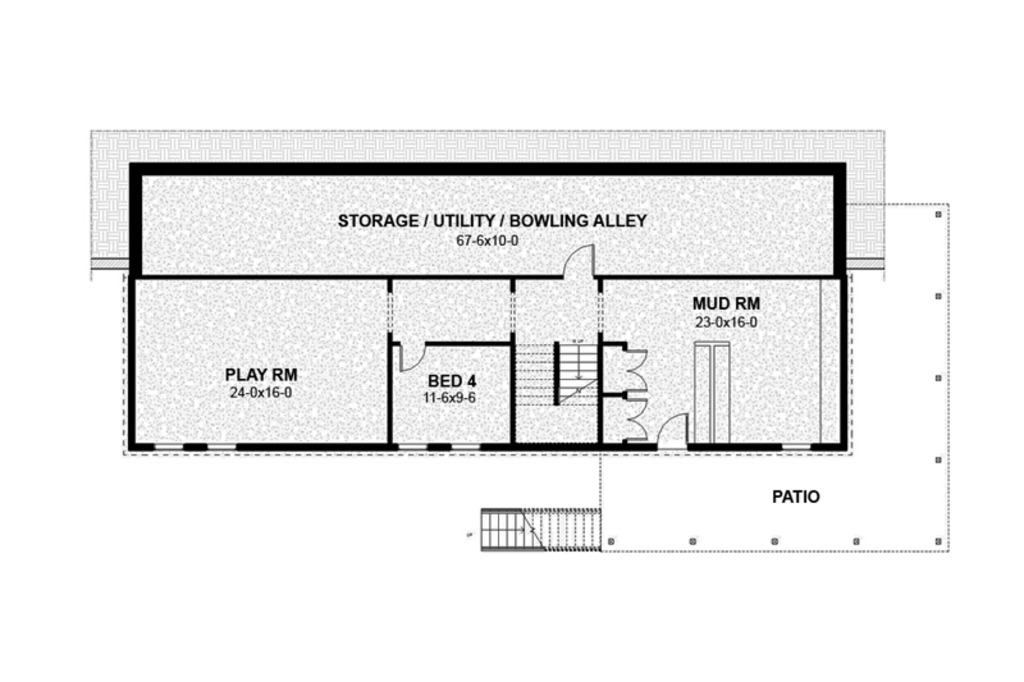door: (655, 411, 694, 449), (560, 244, 597, 278), (396, 337, 430, 374), (626, 396, 650, 442), (623, 348, 648, 388)
stairs: (475, 506, 604, 559)
windows: (393, 440, 484, 456), (149, 441, 241, 454), (776, 441, 817, 454)
